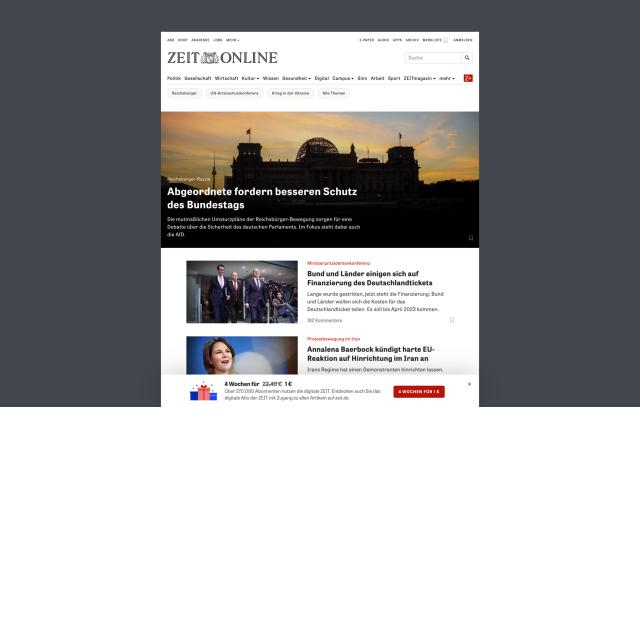input: (404, 51, 474, 64)
logo: (166, 48, 279, 67)
navigation: (165, 74, 459, 82), (355, 34, 478, 45), (165, 35, 245, 45)
